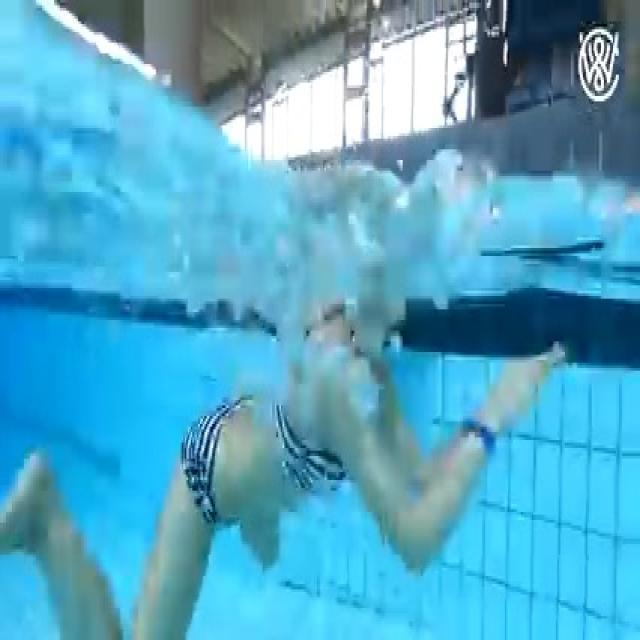Swimming: (2, 236, 617, 606)
